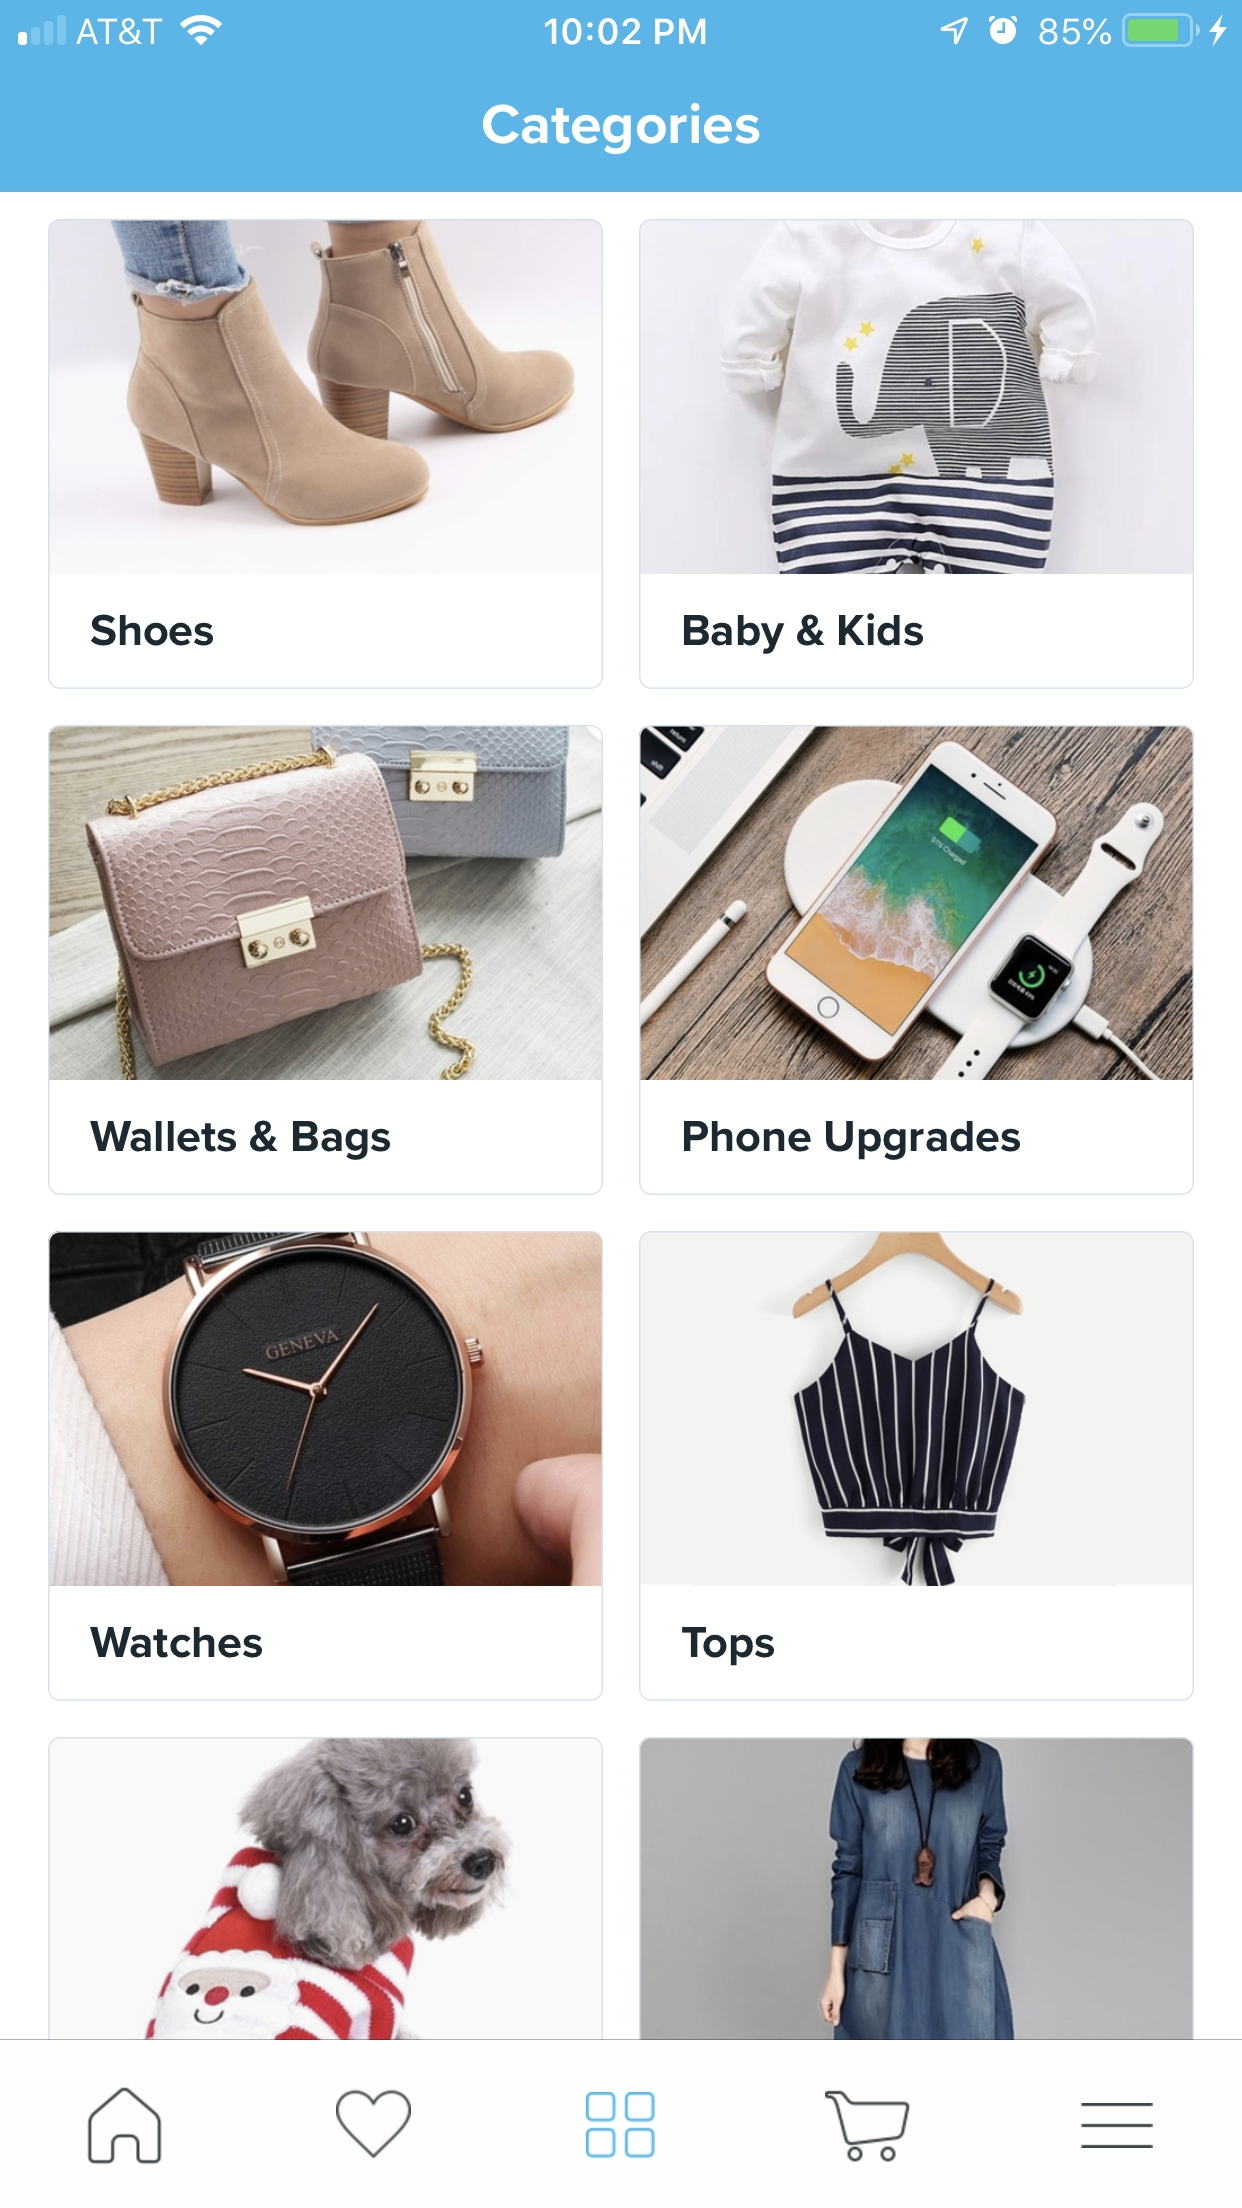Icon: (825, 2090, 910, 2163), (88, 2087, 162, 2164), (337, 2090, 412, 2159), (585, 2093, 657, 2159), (1081, 2102, 1154, 2150)
Image: (49, 1231, 604, 1586), (638, 725, 1193, 1080), (638, 220, 1193, 575), (49, 726, 604, 1080), (50, 218, 604, 572), (641, 1233, 1193, 1586), (49, 1736, 604, 2040), (640, 1739, 1192, 2040)
Text: (482, 103, 761, 156), (684, 1121, 1021, 1162), (89, 1121, 391, 1162), (682, 613, 924, 657), (91, 1627, 264, 1659), (93, 616, 214, 648), (682, 1627, 775, 1667)
UpperTaskBar: (2, 2, 1242, 49)
